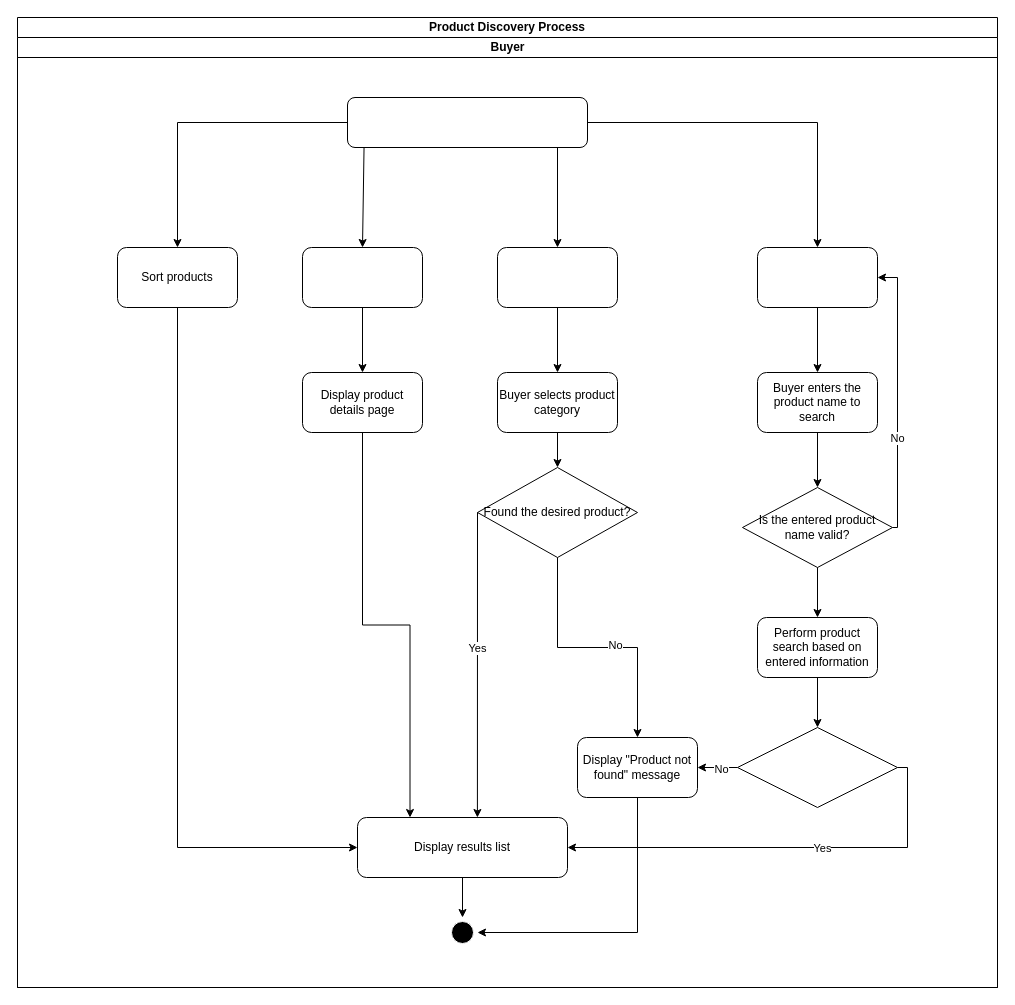
Image size: 1015x1005. Some labels were removed from this diagram. The shapes that lost their labels are listed below. From the top down, each one's box as (x1, y1, x2, y2) in pixels, then its label:
(346, 96, 588, 148): Buyer explores products on the product category page
(302, 246, 422, 308): View product details
(496, 246, 618, 308): Filter products by category
(756, 246, 878, 308): Search products
(736, 726, 898, 808): Có sản phẩm cần tìm ?
